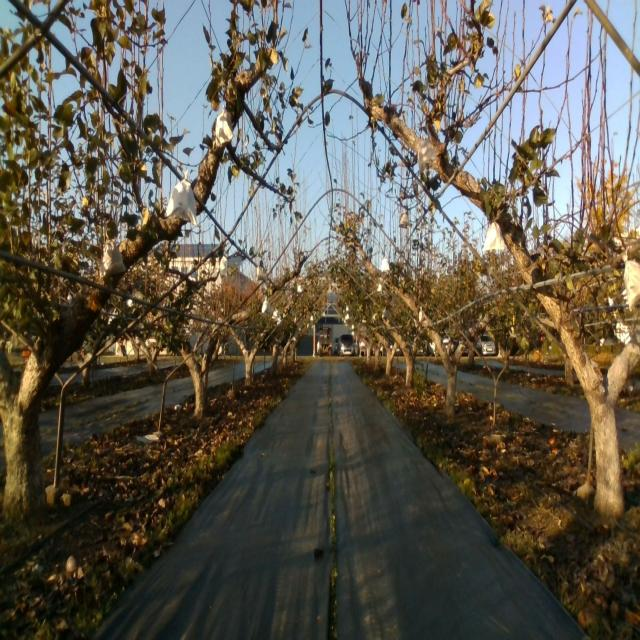pearbags: (165, 169, 197, 225), (99, 238, 126, 278), (622, 255, 640, 310), (214, 106, 234, 149), (483, 218, 504, 252), (417, 138, 437, 172)
